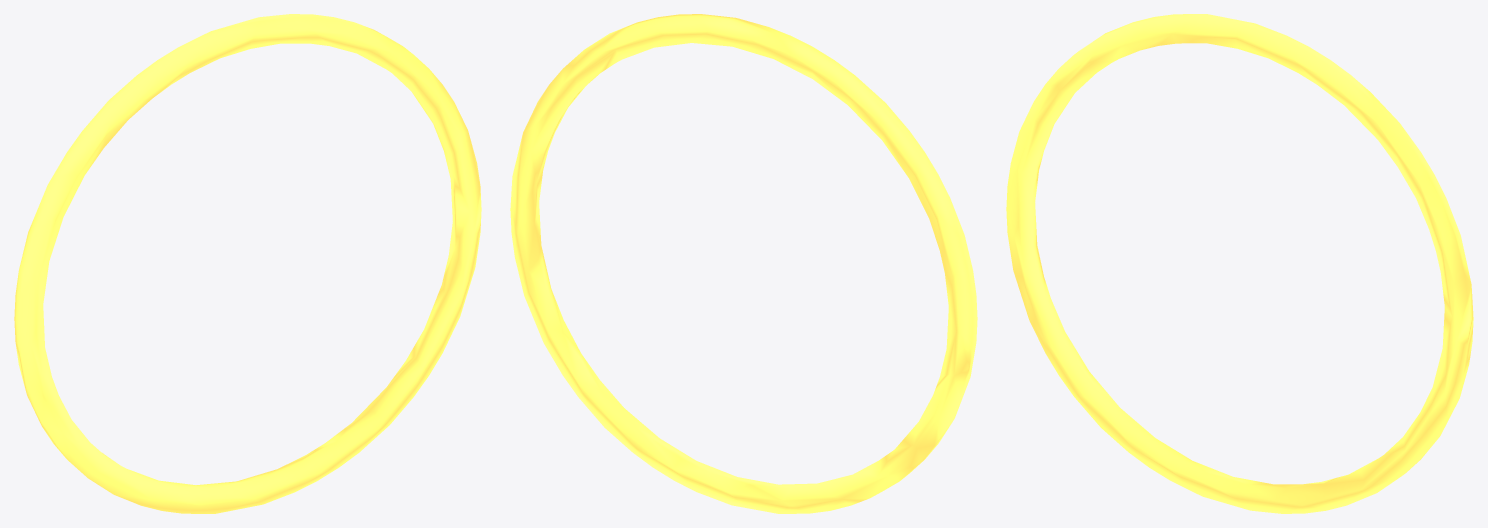
The model's file is Centinela_Corona_Neon.fbx.
3 renders of one model, left to right at view 1: azimuth 30°, elevation 25°; view 2: azimuth 150°, elevation 25°; view 3: azimuth 330°, elevation 25°, orthographic.
Parts seen in each view (by area): view 1: Centinela_Corona_Neon; view 2: Centinela_Corona_Neon; view 3: Centinela_Corona_Neon.
Boxes of the visible parts, x1=… form: Centinela_Corona_Neon: x1=14, y1=14, x2=481, y2=513; Centinela_Corona_Neon: x1=510, y1=14, x2=977, y2=513; Centinela_Corona_Neon: x1=1006, y1=14, x2=1473, y2=513.
Bounding box in the file's own units: 1.23 × 1.23 × 0.0433.
